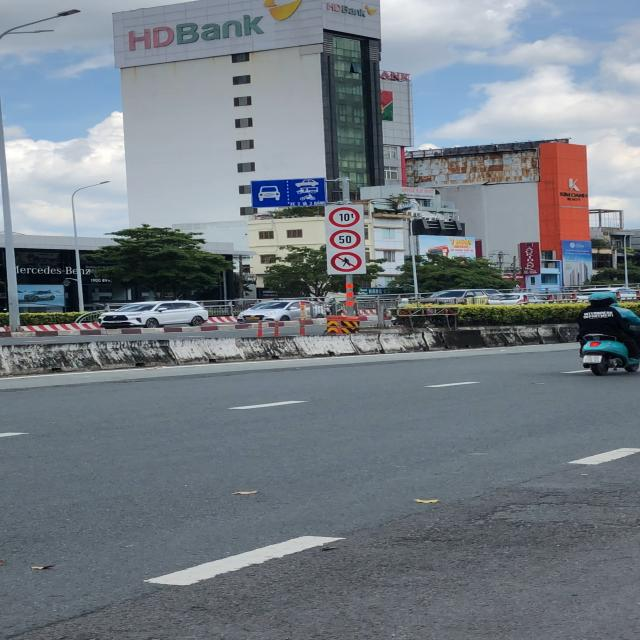Bien bao cam nguoi di bo: (328, 251, 368, 273)
Bien bao toc do toi da cho phep: (326, 227, 368, 251)
